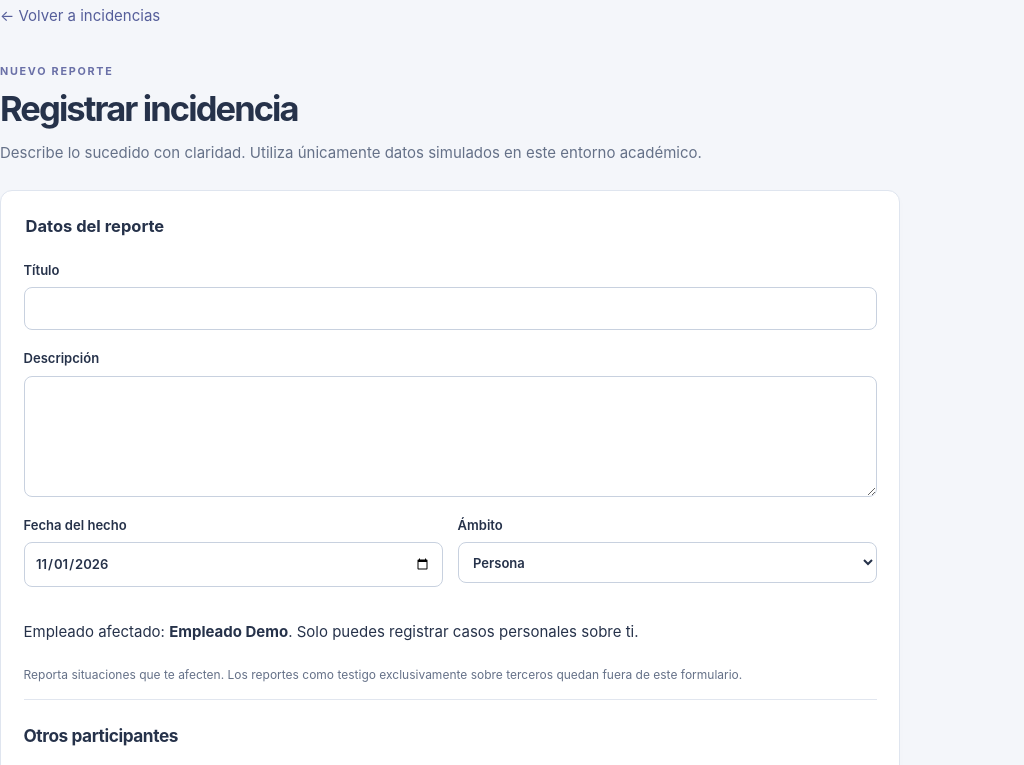
Test: ENTORNO envía departamento sin inventar afectado ni participantes de empleado
Type "Reporte ficticio" into the field labelled "Título" at (450, 309), box [24,287,876,330]
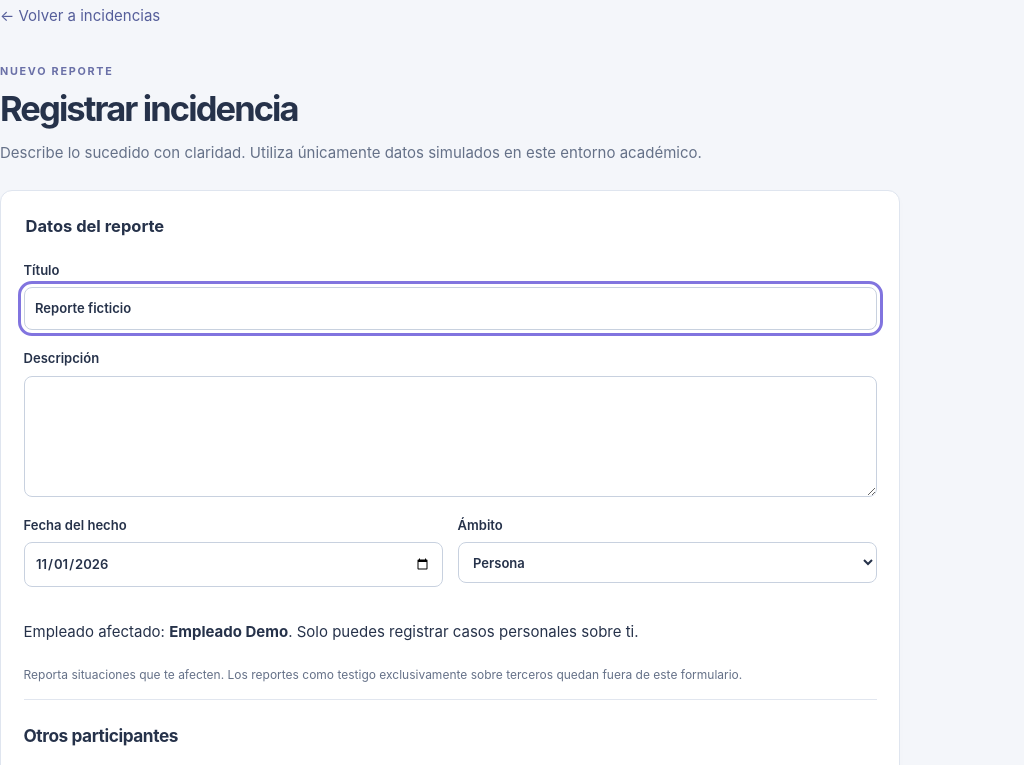
Type "Descripción simulada para la prueba." into the text box labelled "Descripción" at (450, 436), box [24,376,876,497]
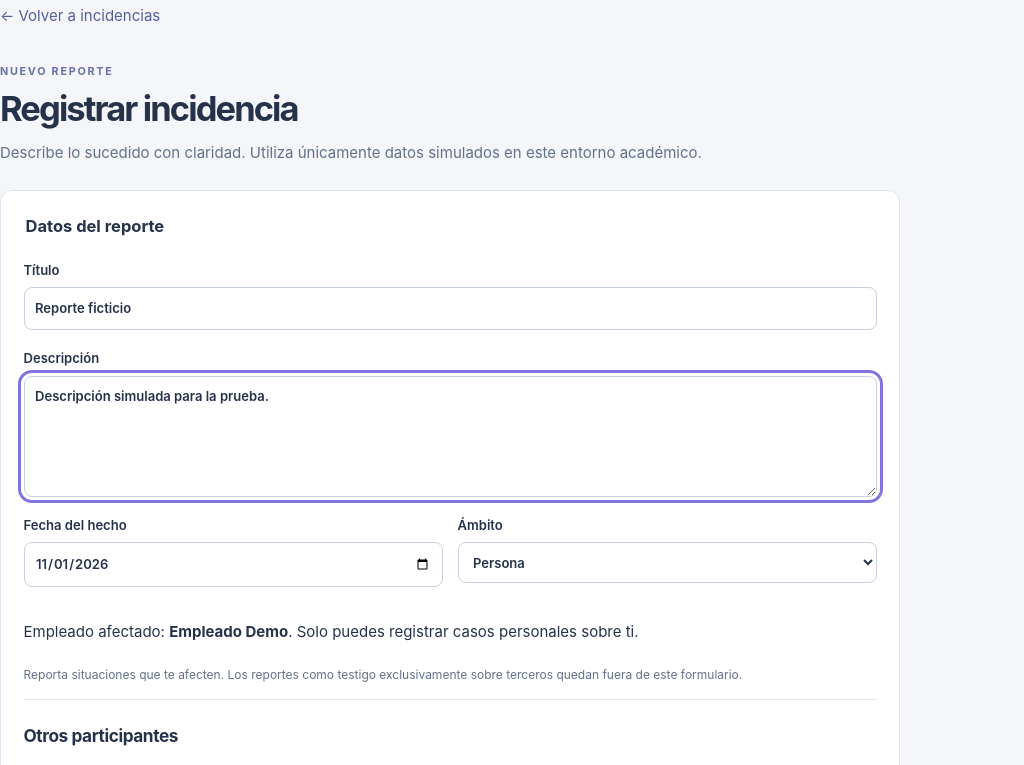
Select "Entorno de trabajo" in the dropdown labelled "Ámbito" at (667, 563), box [458,542,876,583]
(page scrolled)
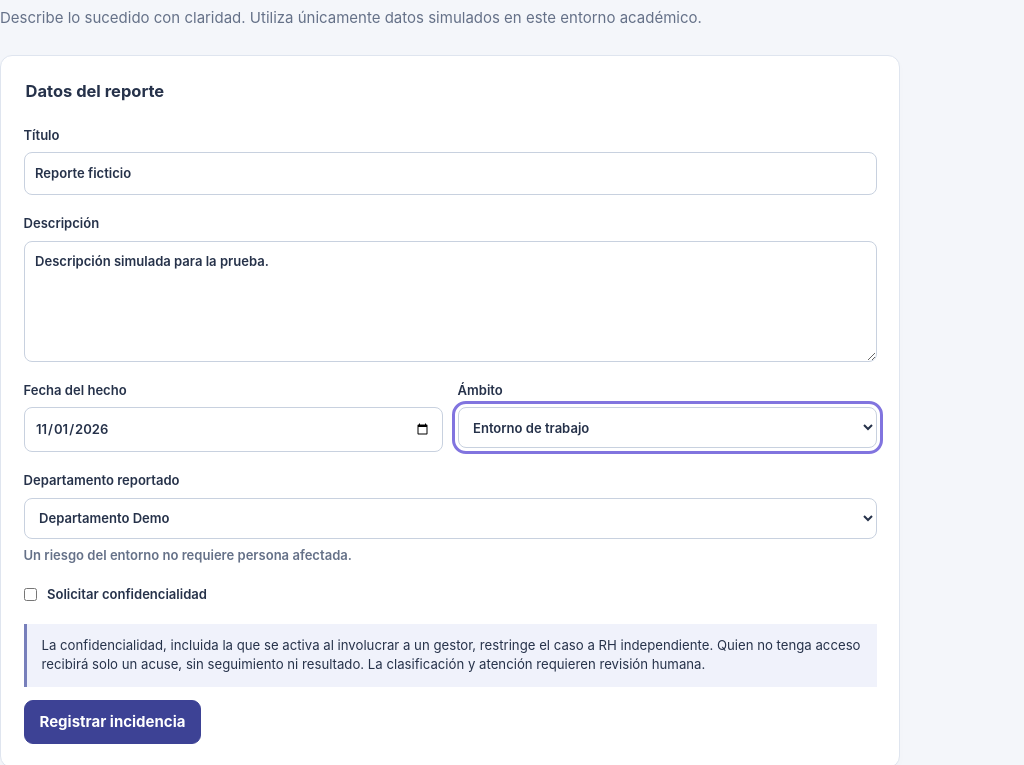
Click the button "Registrar incidencia" at (112, 722), box [24,700,201,744]
(page scrolled)
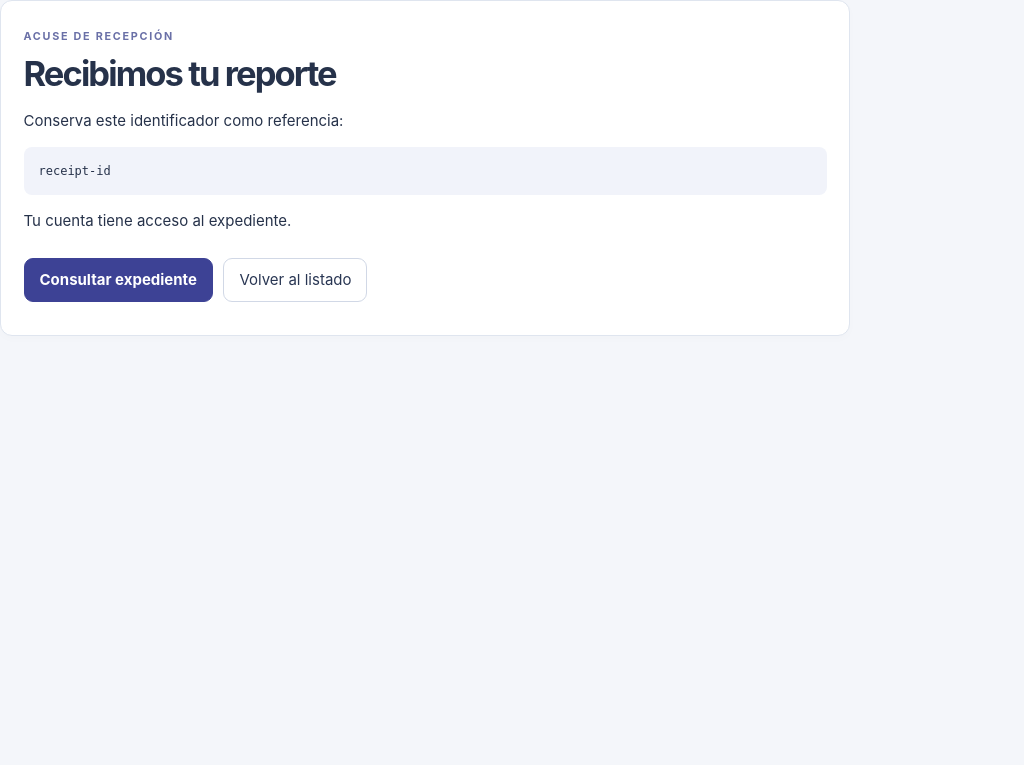
Now the heading "Recibimos tu reporte" is shown, box [24,53,336,94]
